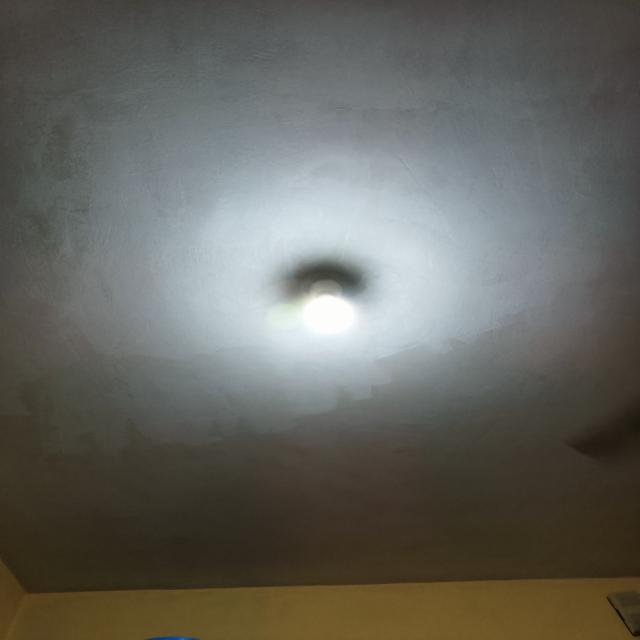bulb_on: (292, 265, 364, 346)
